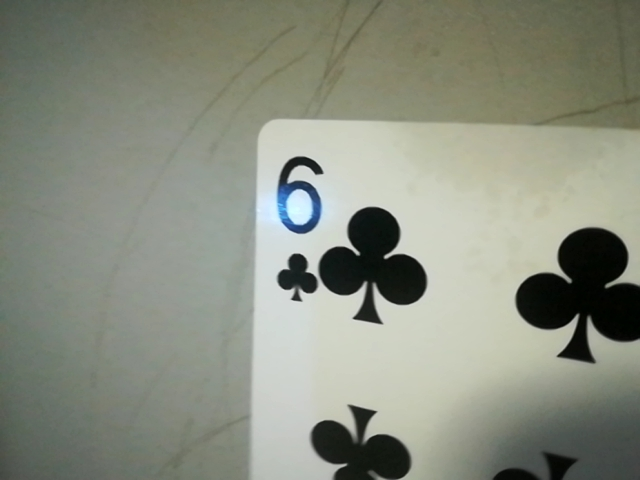mh 6: (264, 143, 329, 307)
